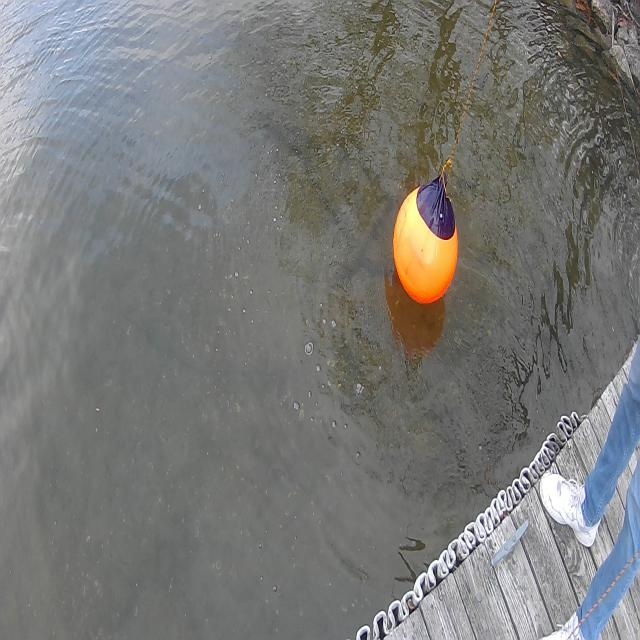Buoy: (390, 184, 459, 308)
